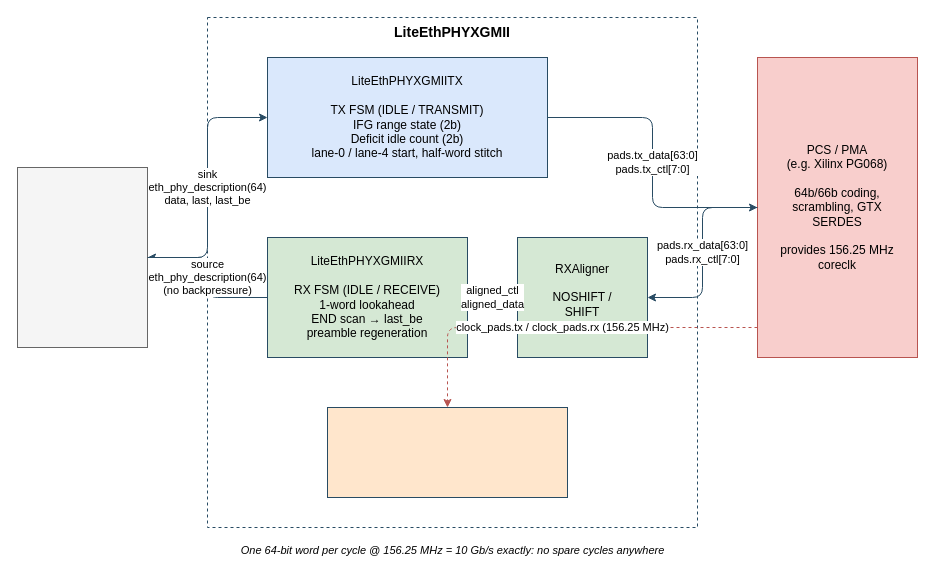
Some shapes in this 935 by 575 pixel diagram are drawn without their labels. The shapes that lost their labels are listed below. From the top down, each one's centre as x and y in pixels, then its label:
(82,257): LiteEth MAC core (preamble, CRC, padding)
(447,452): LiteEthPHYXGMIICRG clock_pads.tx → cd_eth_tx clock_pads.rx → cd_eth_rx
